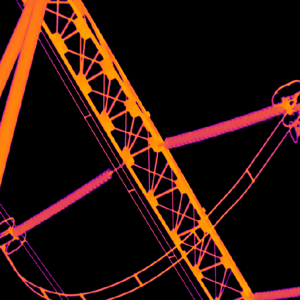insulator: (10, 166, 111, 238), (163, 96, 284, 150)
